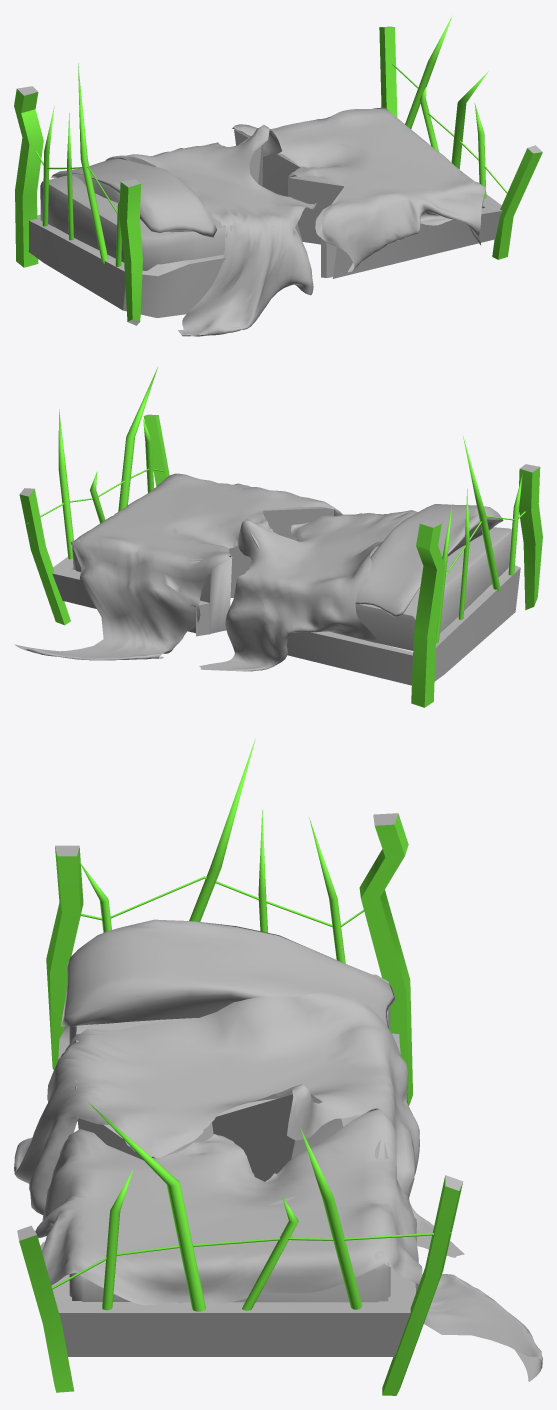
File: BadBed.fbx
3 renders of one model, top to bottom at view 1: azimuth 30°, elevation 25°; view 2: azimuth 150°, elevation 25°; view 3: azimuth 270°, elevation 25°, orthographic. The views are drawn at different scales.
Visible parts, largest first — view 1: BadBed; view 2: BadBed; view 3: BadBed.
Boxes of the visible parts, x1=… form: BadBed: x1=14, y1=16, x2=542, y2=336; BadBed: x1=14, y1=367, x2=542, y2=707; BadBed: x1=14, y1=738, x2=542, y2=1395.
Bounding box in the file's own units: 606 × 347 × 435.
